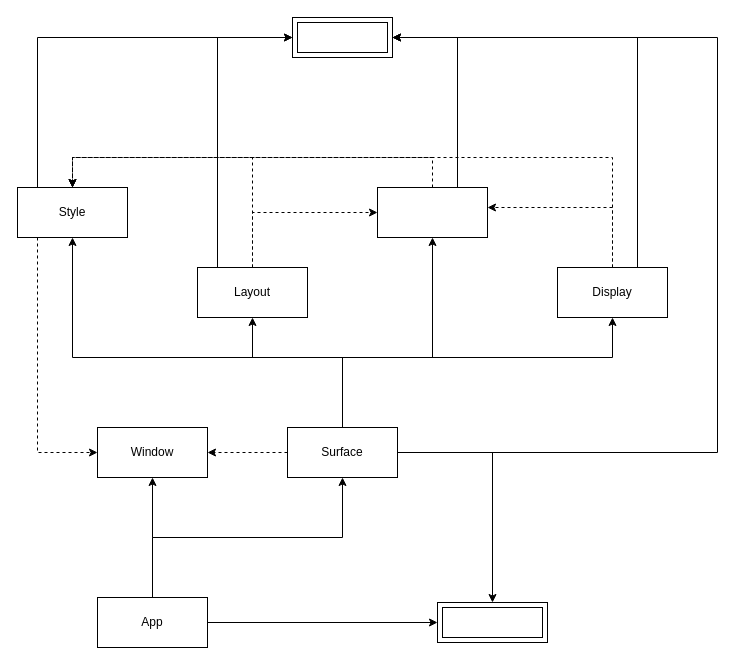
Image size: 743x665. Some labels were removed from this diagram. The box of each missing label's shape, as (x1, y1, x2, y2) in pixels:
Clay: (292, 16, 392, 58)
Raylib: (436, 602, 548, 642)
Widget: (376, 186, 488, 238)
